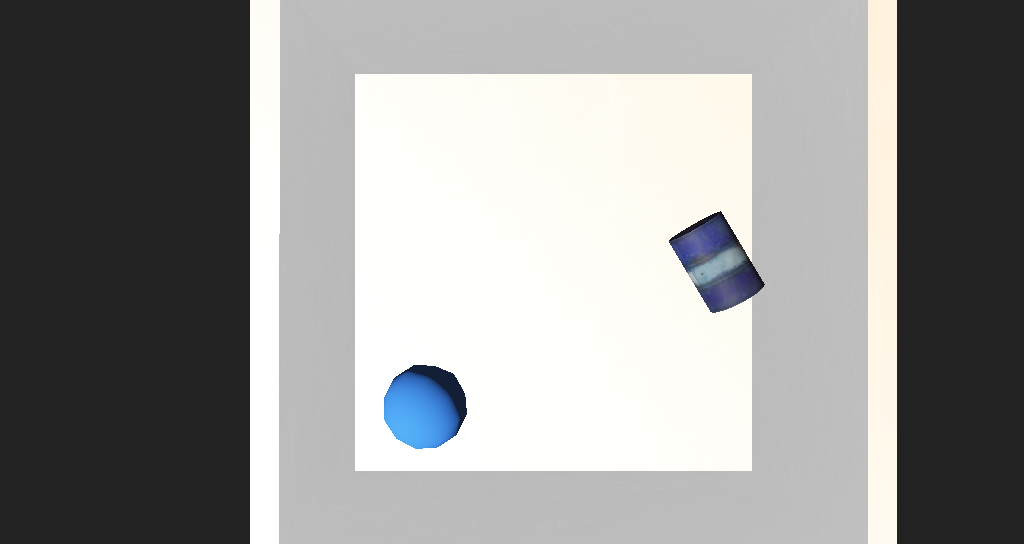cone: (586, 234, 667, 291)
cylinder: (495, 401, 556, 458)
sphere: (381, 315, 441, 363)
